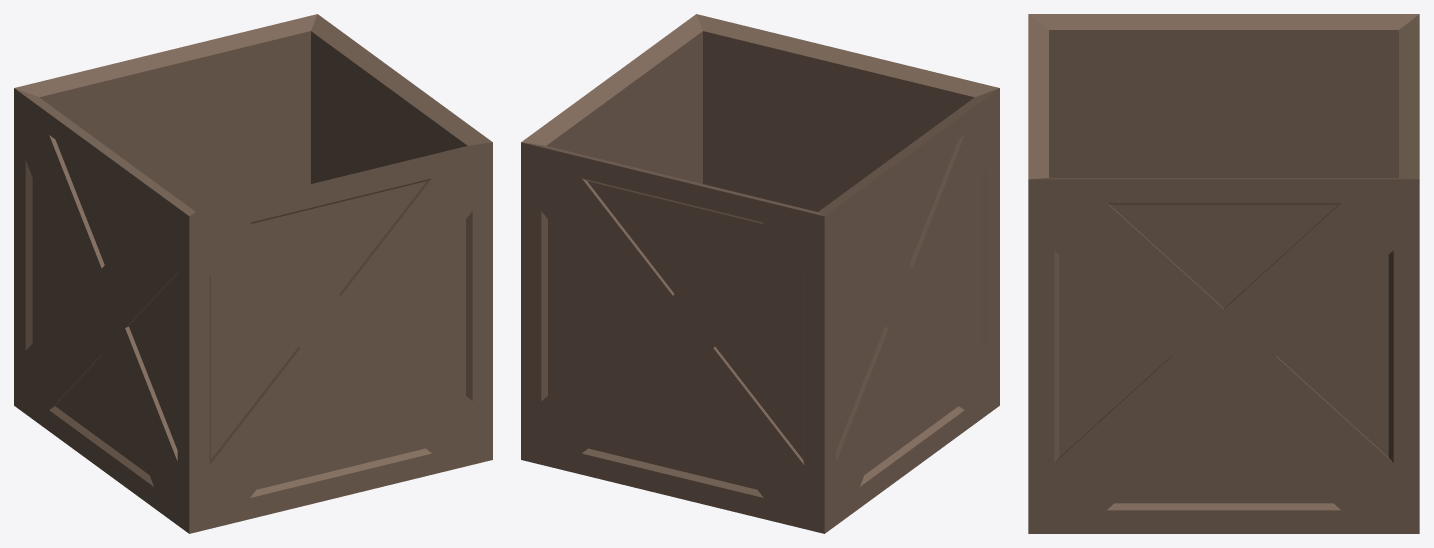
File: Caixa.fbx
3 renders of one model, left to right at view 1: azimuth 30°, elevation 25°; view 2: azimuth 150°, elevation 25°; view 3: azimuth 270°, elevation 25°, orthographic. The views are drawn at different scales.
Parts seen in each view (by area): view 1: Box; view 2: Box; view 3: Box.
Boxes of the visible parts, x1=… form: Box: x1=14, y1=14, x2=492, y2=533; Box: x1=521, y1=14, x2=999, y2=533; Box: x1=1028, y1=14, x2=1419, y2=533.
Size of the model in its own units: 200 by 200 by 200.
